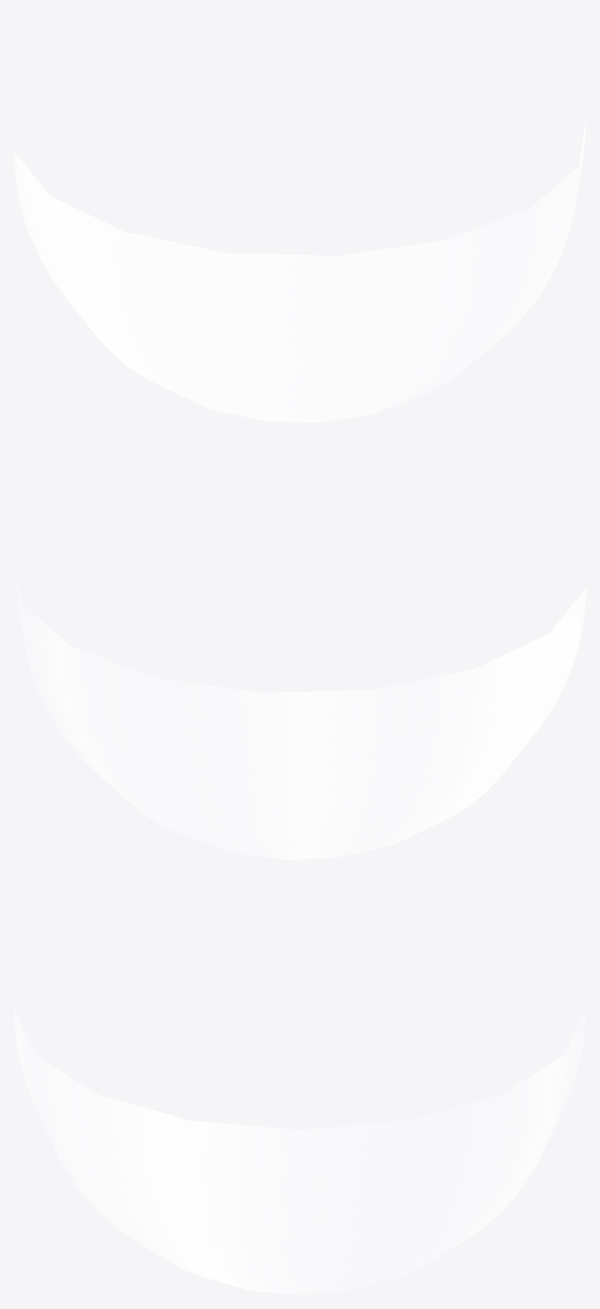
File: comet.glb
The picture shows the model from 3 angles, top to bottom: view 1: azimuth 30°, elevation 25°; view 2: azimuth 150°, elevation 25°; view 3: azimuth 270°, elevation 25°; orthographic projection.
Parts seen in each view (by area): view 1: Sphere; view 2: Sphere; view 3: Sphere.
Boxes of the visible parts, bbox=[...] form: Sphere: bbox=[14, 120, 585, 422]; Sphere: bbox=[14, 561, 585, 859]; Sphere: bbox=[14, 1010, 585, 1294].
Bounding box in the file's own units: 2 × 1 × 2.
1 material, 1 textured.
